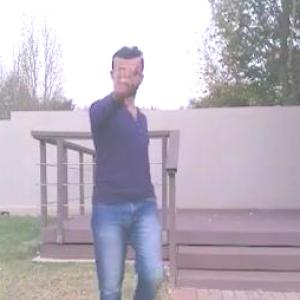takeoff-hand: (107, 46, 146, 93)
